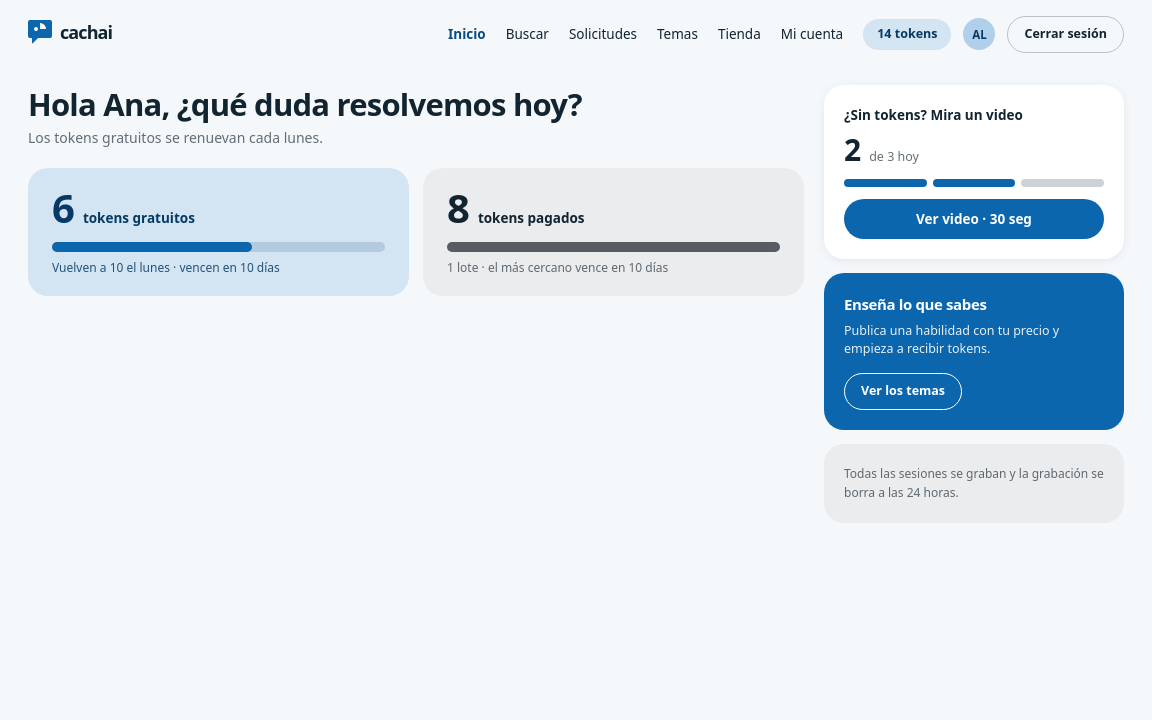
videos › al terminar la cuenta regresiva registra el video y actualiza el saldo
This screenshot has width=1152, height=720.
Click the button "Ver video · 30 seg".
click(974, 219)  # box [844,199,1104,239]
Wait 30000 ms
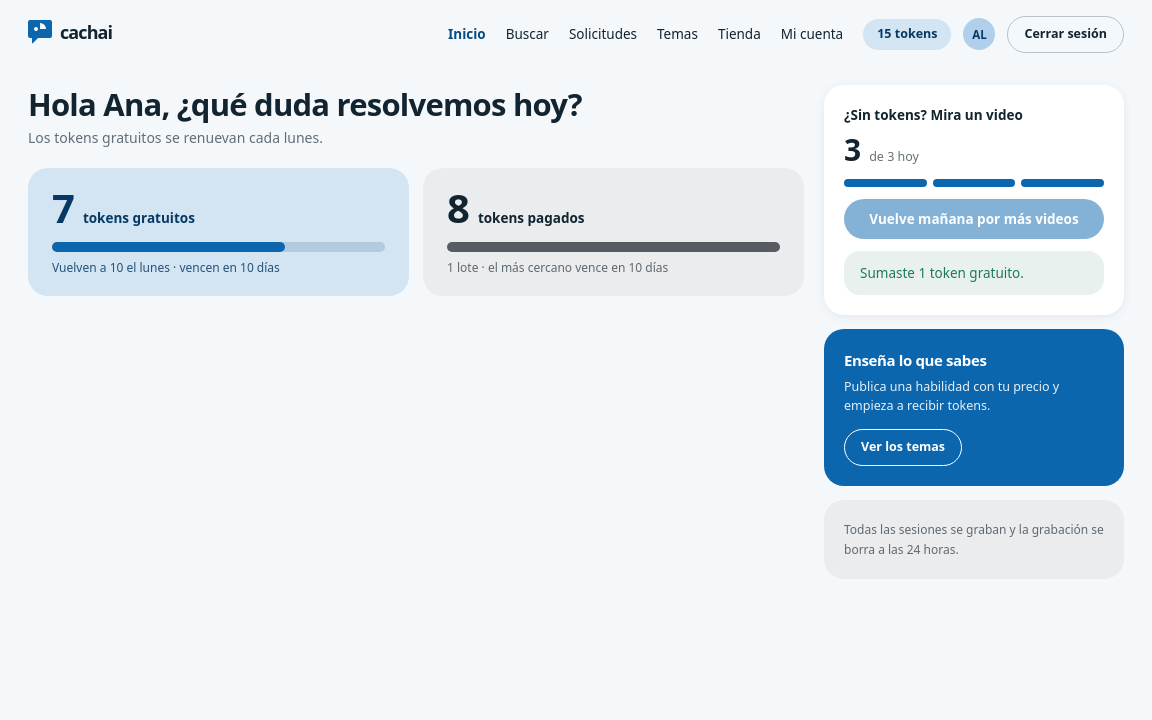
Now the text "Sumaste 1 token gratuito." is shown, box [844,251,1104,295]
Now the link "15 tokens" is shown, box [863,19,952,50]
Now the button "Vuelve mañana por más videos" is disabled, box [844,199,1104,239]
